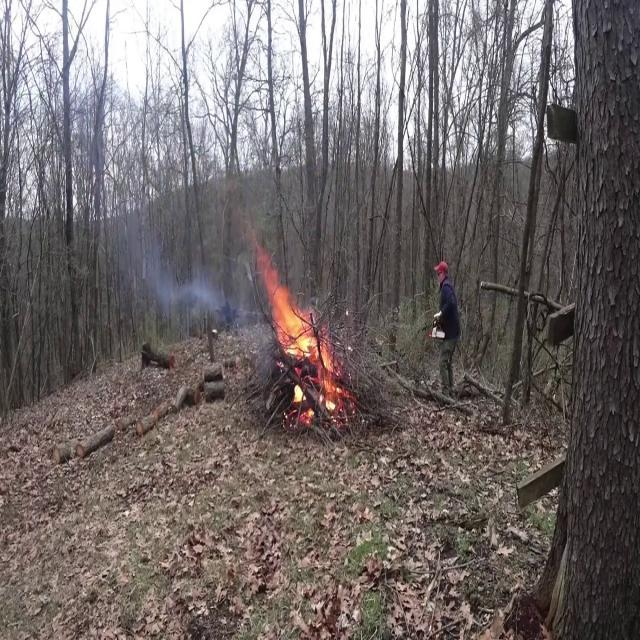Fire: (254, 243, 342, 417)
